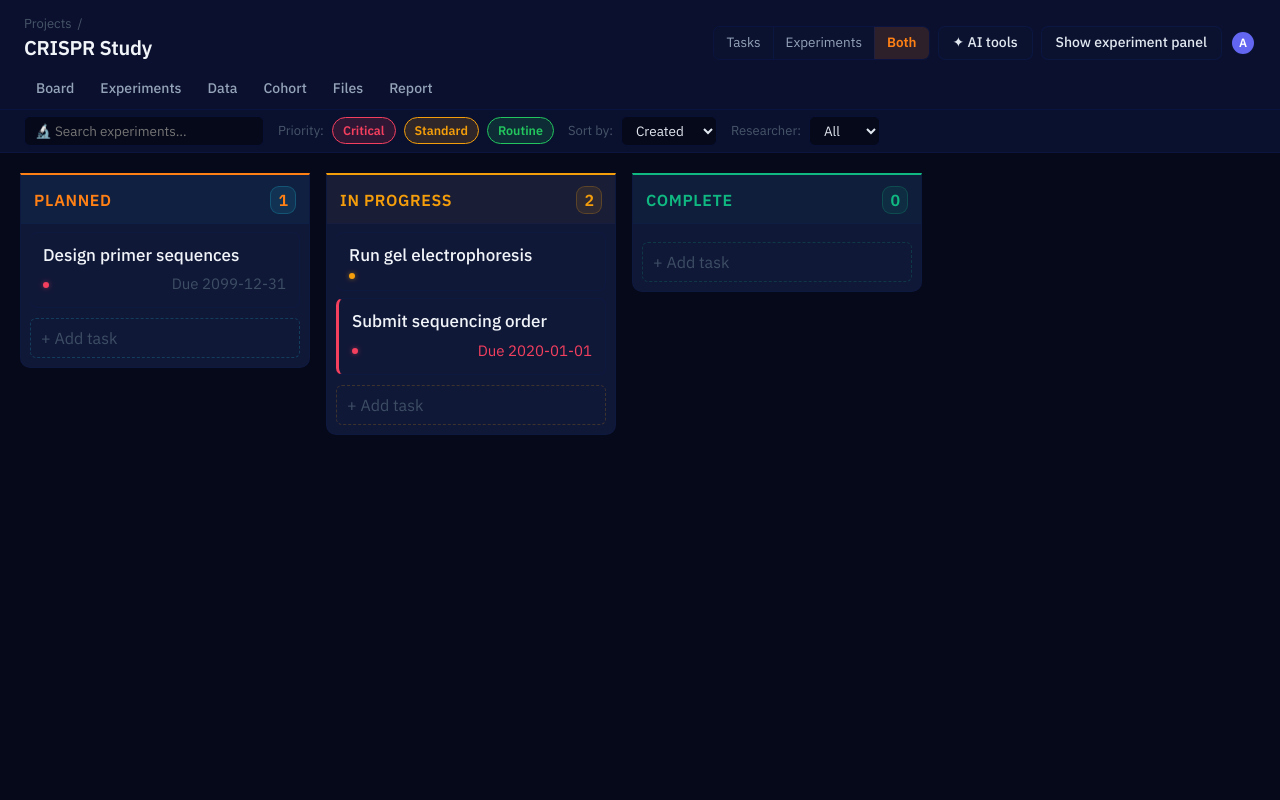
Test: Board › clearing selection hides BulkActionBar
The width and height of the screenshot is (1280, 800).
Hover over the text "Design primer sequences": (165, 270) x1=30 y1=232 x2=300 y2=308
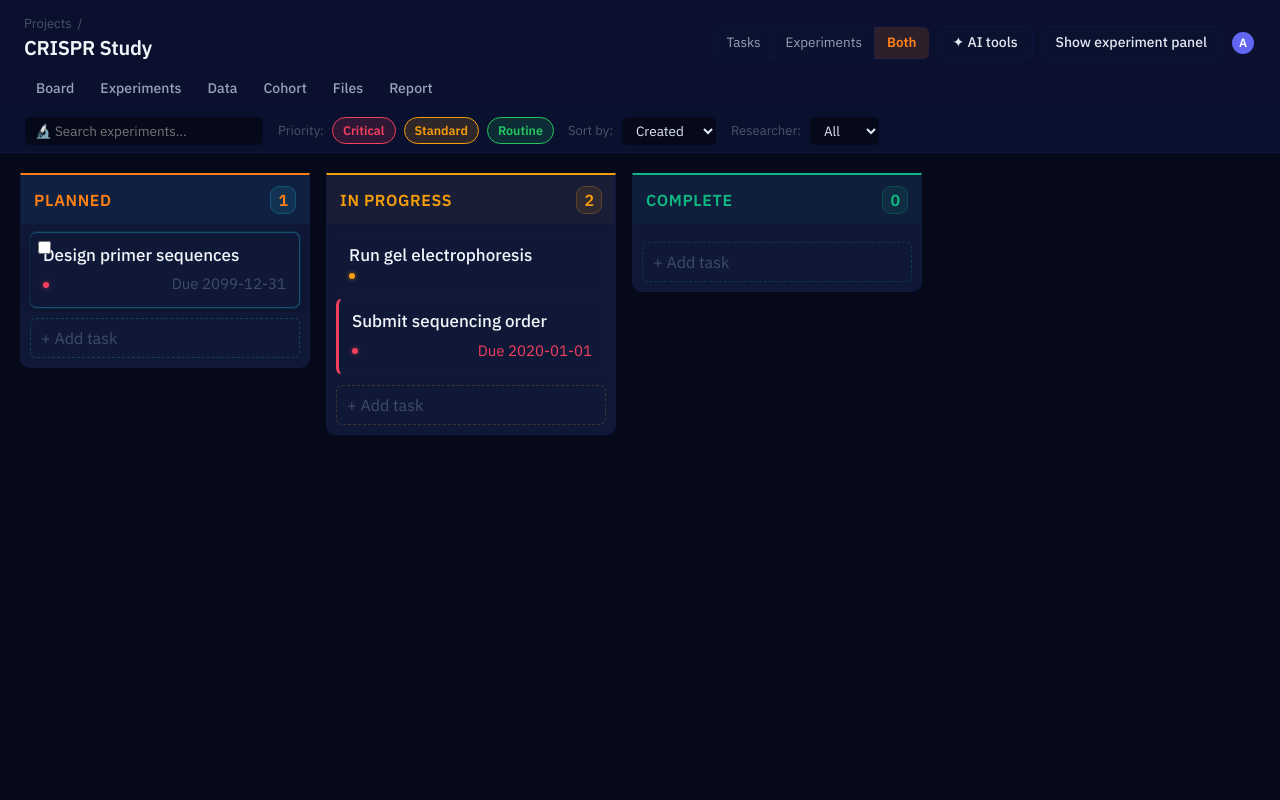
Click the checkbox: (44, 247) x1=38 y1=240 x2=51 y2=254
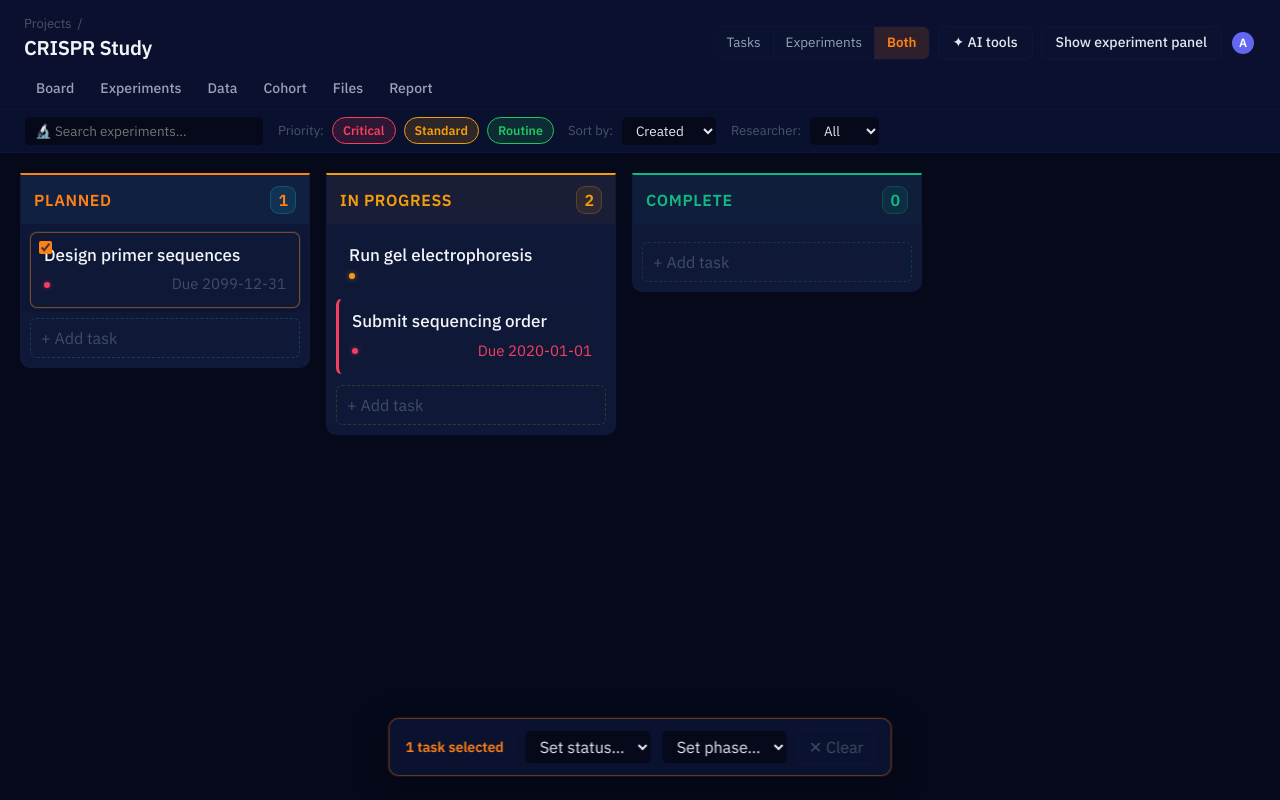
Expected: the text "1 task selected" is shown, x1=406 y1=736 x2=504 y2=758
Click the button "✕ Clear": (836, 747) x1=798 y1=729 x2=874 y2=765
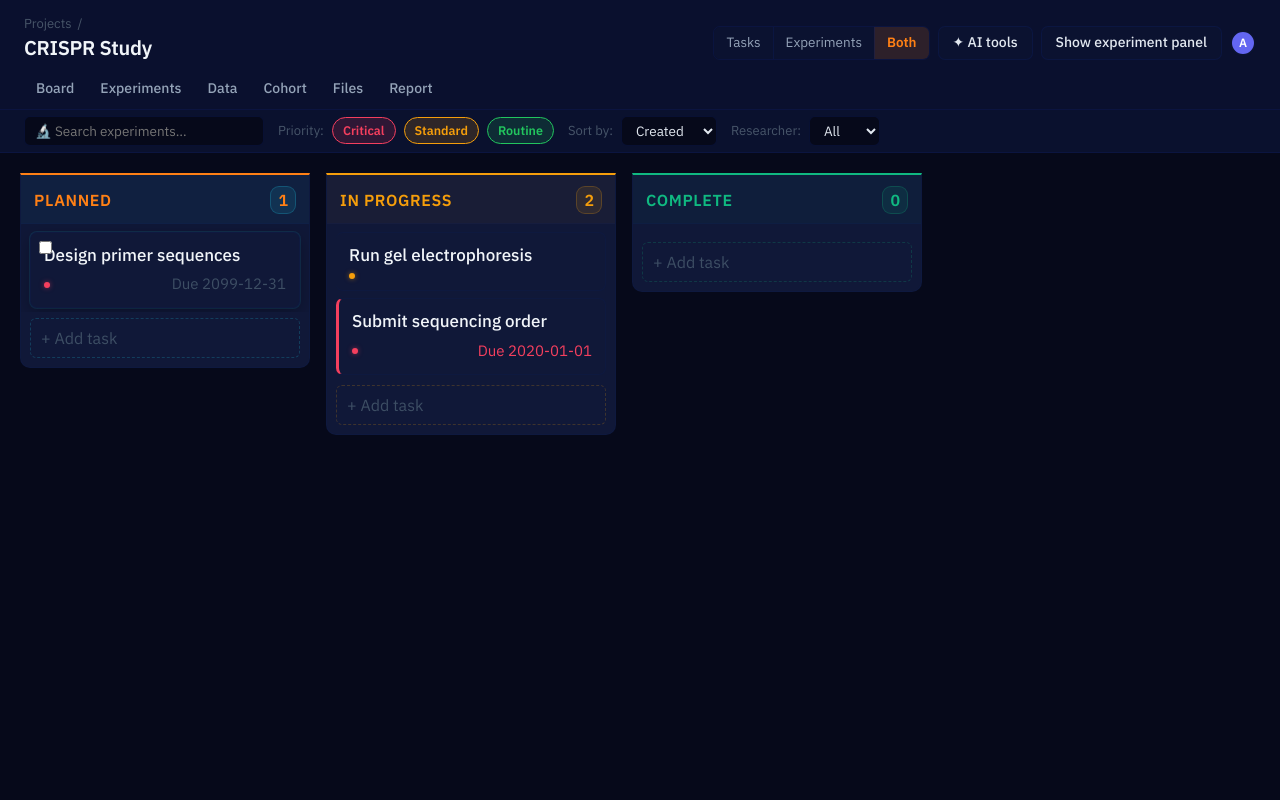
Expected: the text "1 task selected" is gone
